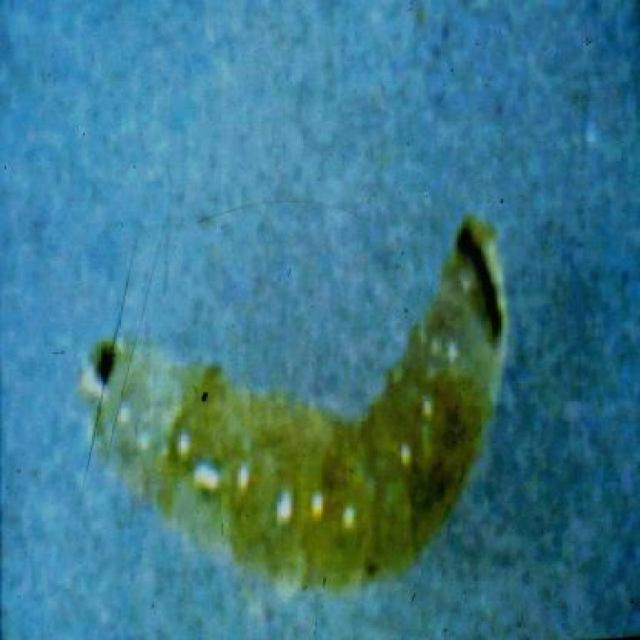whorl-maggot: (79, 212, 512, 596)
